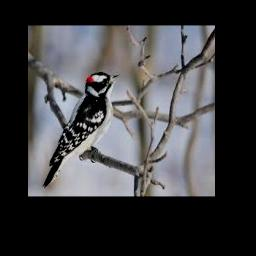Woodpecker: (42, 72, 121, 188)
